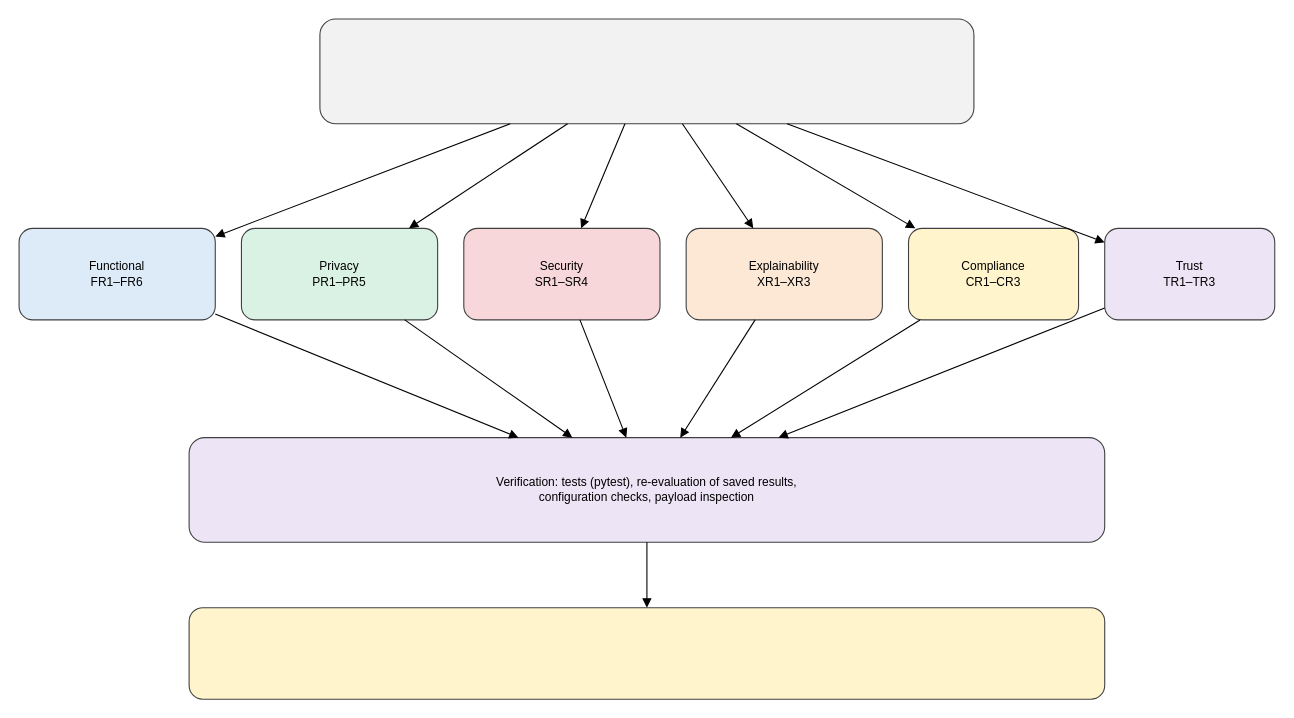
This 1294x718 diagram has some shape labels left out. The shapes that lost their labels are listed below. From the top down, each one's centre as x and y in pixels, then its label:
At (x=646, y=71): "Goal: useful knowledge from sensitive tabular data without exposing individuals".
At (x=646, y=653): "Evidence in report: traceability matrix, results tables, audit records".
